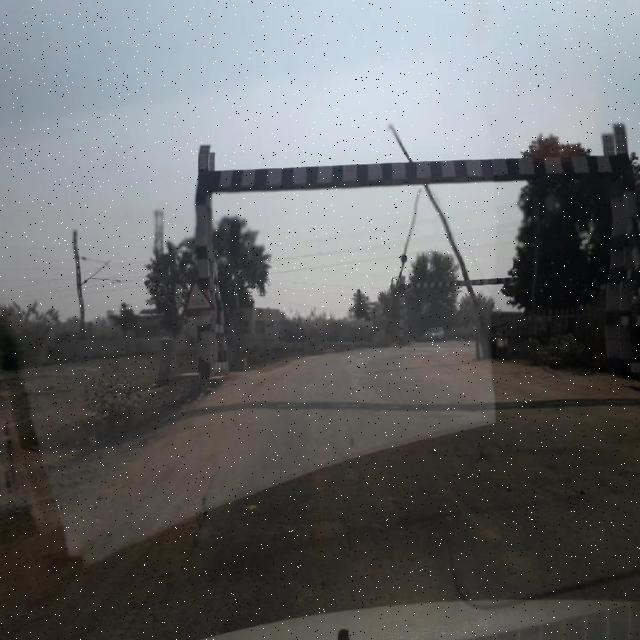D00: (188, 458, 220, 551)
D40: (434, 436, 639, 526)
